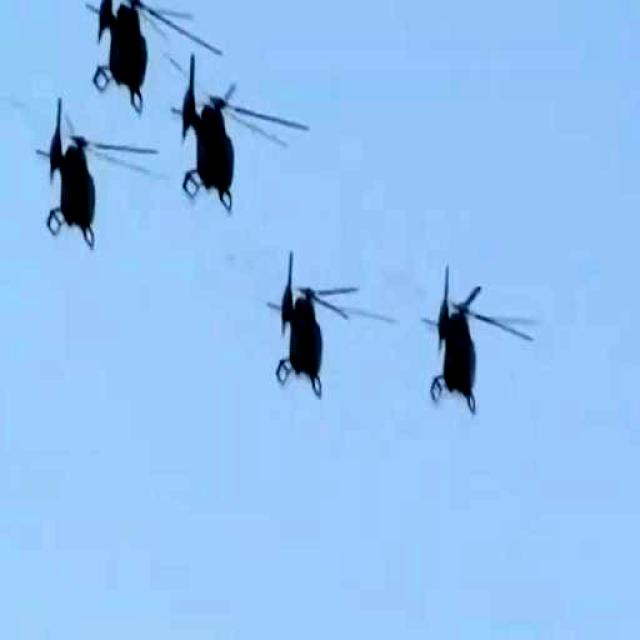drone: (250, 199, 359, 429), (420, 235, 505, 452), (174, 61, 266, 238), (34, 80, 118, 265), (75, 0, 162, 130)
